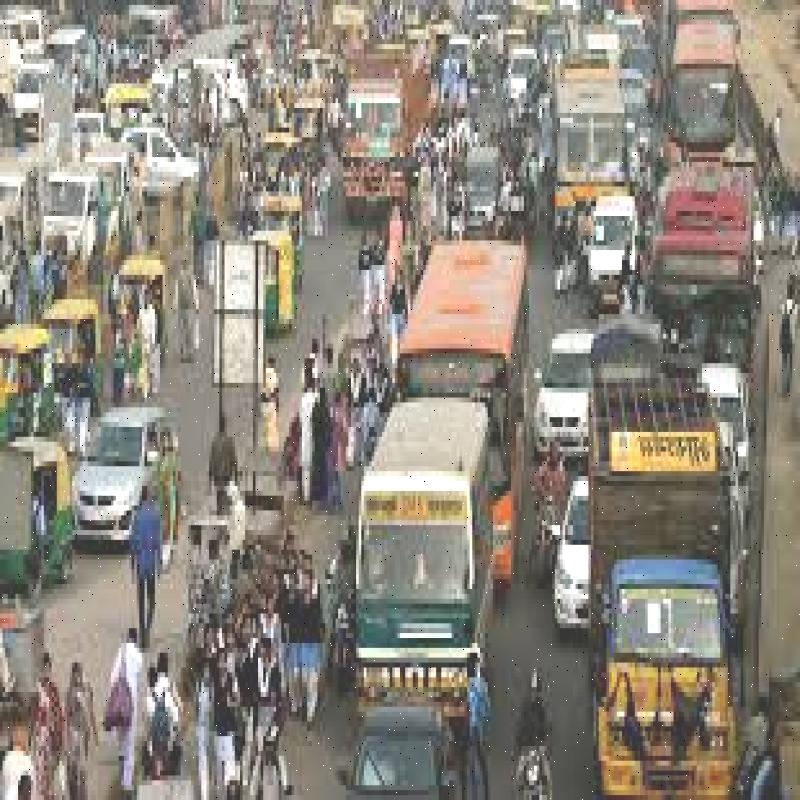auto: (40, 293, 102, 409), (243, 219, 303, 322), (110, 252, 169, 349), (0, 309, 44, 422), (256, 117, 303, 211)
car: (76, 389, 174, 553), (532, 318, 598, 450), (554, 475, 600, 630), (569, 193, 635, 297)
